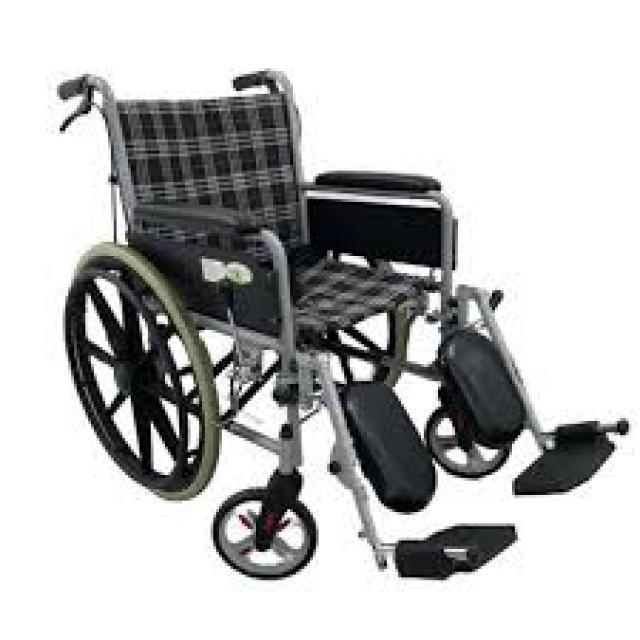wheelchair: (46, 57, 634, 606)
